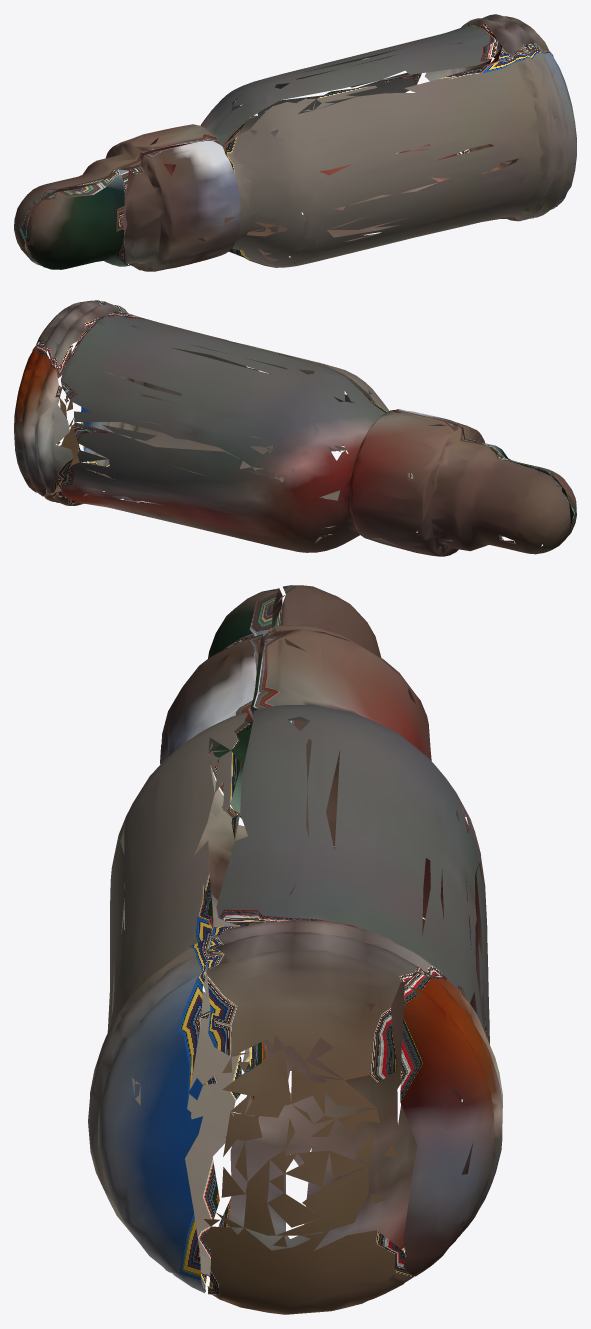
The model's file is glas-medizinflasche.glb.
3 renders of one model, top to bottom at view 1: azimuth 30°, elevation 25°; view 2: azimuth 150°, elevation 25°; view 3: azimuth 270°, elevation 25°, orthographic. The views are drawn at different scales.
Visible parts, largest first — view 1: glas-medizinflasche; view 2: glas-medizinflasche; view 3: glas-medizinflasche.
Boxes of the visible parts, x1,y1,x2,y2 form: glas-medizinflasche: (14,14,576,271); glas-medizinflasche: (14,300,576,556); glas-medizinflasche: (88,585,502,1314).
Size of the model in its own units: 0.1341 by 0.0463 by 0.0465.
1 material, 1 textured.
